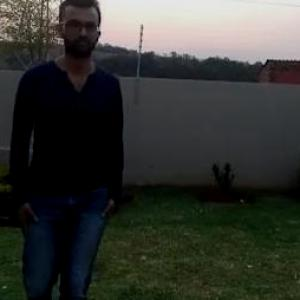follow: (20, 5, 118, 299)
